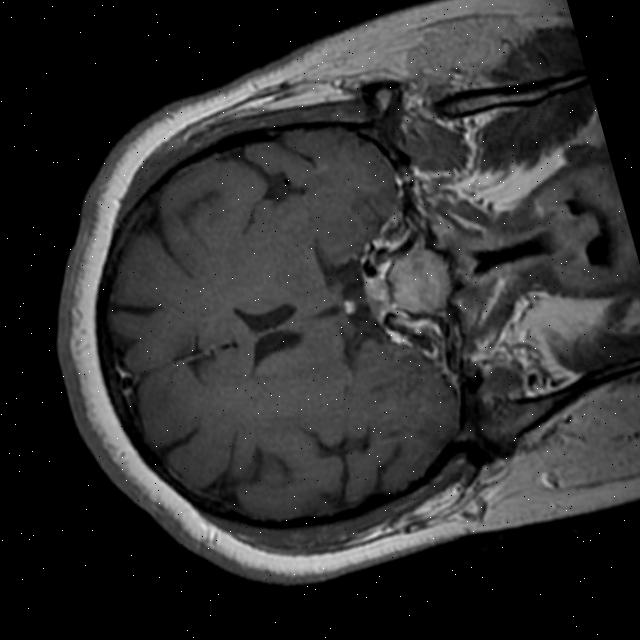Pituitary: (382, 240, 459, 323)
